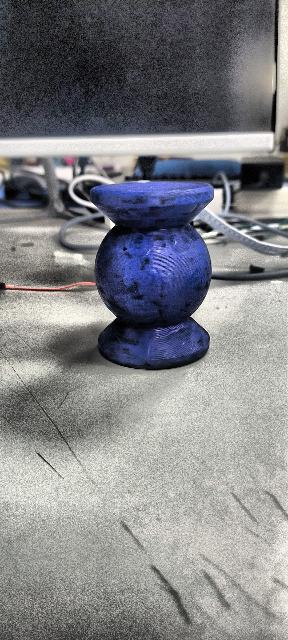blue: (90, 180, 215, 370)
